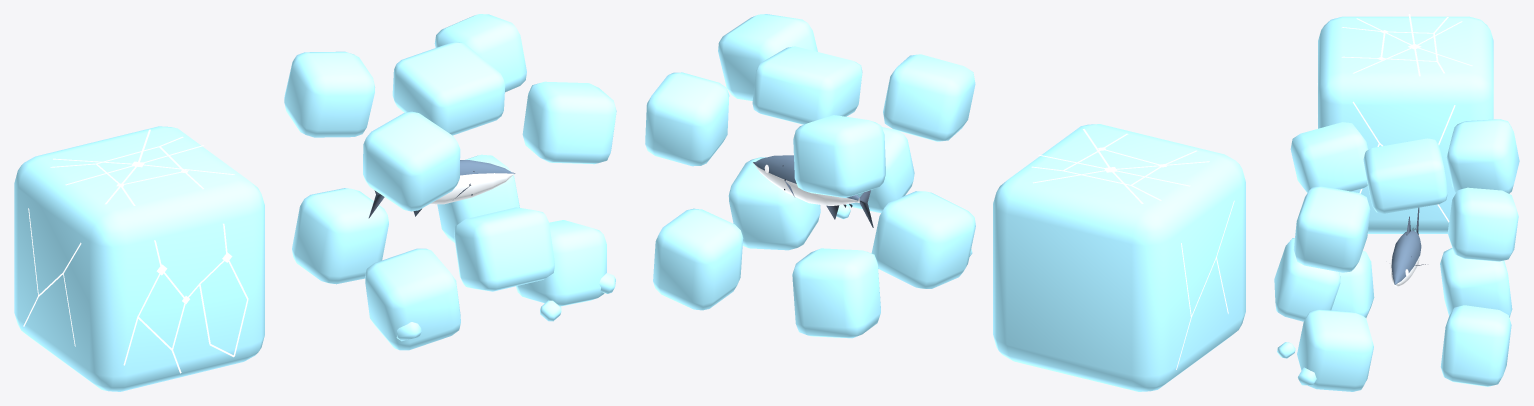
Rendered from IceCube.glb.
The picture shows the model from 3 angles, left to right: view 1: azimuth 30°, elevation 25°; view 2: azimuth 150°, elevation 25°; view 3: azimuth 270°, elevation 25°; orthographic projection. The views are drawn at different scales.
Visible parts, largest first — view 1: IceCube_Body, IceCube_Broken_Shard_01, IceCube_Broken_Shard_03, IceCube_Broken_Shard_07, IceCube_Broken_Shard_10, IceCube_Broken_Shard_06, IceCube_Broken_Shard_02, IceCube_Broken_Shard_05, IceCube_Broken_Shard_08, IceCube_Broken_Shard_04, IceCube_Cracks, IceCube_Broken_Shard_09 (+1 smaller); view 2: IceCube_Body, IceCube_Broken_Shard_07, IceCube_Broken_Shard_09, IceCube_Broken_Shard_10, IceCube_Broken_Shard_01, IceCube_Broken_Shard_05, IceCube_Broken_Shard_04, IceCube_Broken_Shard_03, IceCube_Broken_Shard_08, IceCube_Broken_Shard_02, IceCube_Broken_Shard_06, IceCube_Broken_Tuna (+1 smaller); view 3: IceCube_Body, IceCube_Broken_Shard_02, IceCube_Broken_Shard_08, IceCube_Broken_Shard_01, IceCube_Broken_Shard_09, IceCube_Broken_Shard_05, IceCube_Broken_Shard_04, IceCube_Broken_Shard_03, IceCube_Broken_Shard_10, IceCube_Broken_Shard_06, IceCube_Broken_Shard_07, IceCube_Broken_Tuna (+3 smaller).
Boxes of the visible parts, x1,y1,x2,y2 form: IceCube_Body: [14, 126, 264, 391]; IceCube_Broken_Shard_01: [392, 42, 505, 135]; IceCube_Broken_Shard_03: [363, 111, 460, 211]; IceCube_Broken_Shard_07: [365, 248, 460, 350]; IceCube_Broken_Shard_10: [292, 188, 388, 284]; IceCube_Broken_Shard_06: [454, 207, 554, 291]; IceCube_Broken_Shard_02: [522, 81, 616, 164]; IceCube_Broken_Shard_05: [284, 51, 374, 137]; IceCube_Broken_Shard_08: [516, 220, 606, 306]; IceCube_Broken_Shard_04: [434, 14, 526, 92]; IceCube_Cracks: [23, 129, 248, 373]; IceCube_Broken_Shard_09: [437, 154, 519, 242]; IceCube_Body: [993, 124, 1245, 391]; IceCube_Broken_Shard_07: [871, 191, 975, 288]; IceCube_Broken_Shard_09: [653, 208, 743, 310]; IceCube_Broken_Shard_10: [792, 248, 880, 338]; IceCube_Broken_Shard_01: [752, 46, 862, 124]; IceCube_Broken_Shard_05: [793, 115, 885, 197]; IceCube_Broken_Shard_04: [645, 72, 729, 166]; IceCube_Broken_Shard_03: [883, 54, 975, 141]; IceCube_Broken_Shard_08: [728, 157, 820, 250]; IceCube_Broken_Shard_02: [718, 14, 817, 100]; IceCube_Broken_Shard_06: [843, 127, 914, 212]; IceCube_Broken_Tuna: [752, 155, 873, 227]; IceCube_Body: [1318, 16, 1493, 233]; IceCube_Broken_Shard_02: [1293, 186, 1370, 272]; IceCube_Broken_Shard_08: [1297, 309, 1373, 391]; IceCube_Broken_Shard_01: [1363, 138, 1448, 213]; IceCube_Broken_Shard_09: [1440, 305, 1511, 386]; IceCube_Broken_Shard_05: [1446, 119, 1519, 193]; IceCube_Broken_Shard_04: [1447, 187, 1518, 261]; IceCube_Broken_Shard_03: [1290, 122, 1368, 192]; IceCube_Broken_Shard_10: [1440, 248, 1512, 317]; IceCube_Broken_Shard_06: [1274, 238, 1340, 321]; IceCube_Broken_Shard_07: [1331, 251, 1374, 317]; IceCube_Broken_Tuna: [1390, 207, 1425, 286].
Size of the model in its own units: 2.99 by 1.29 by 1.4.
